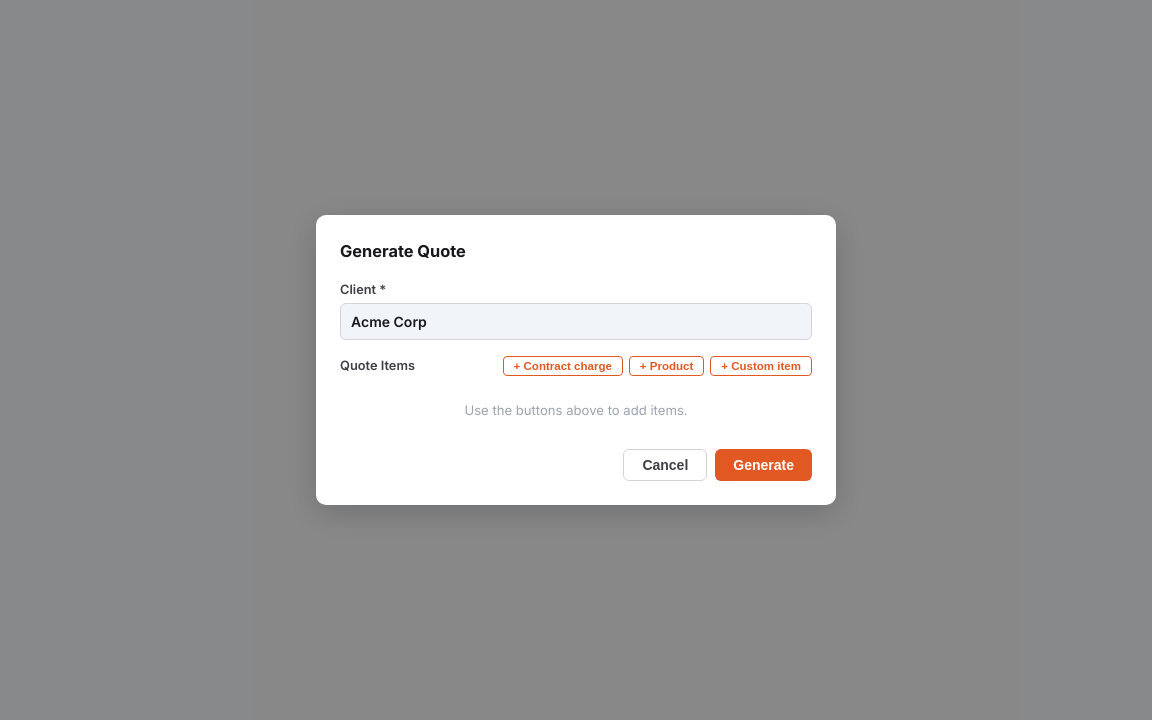
Test: GenerateQuoteModal › auto-fills the unit price when a catalog product is chosen
Click the button titled "Add Product": coordinates (667, 366) [629, 356, 704, 376]
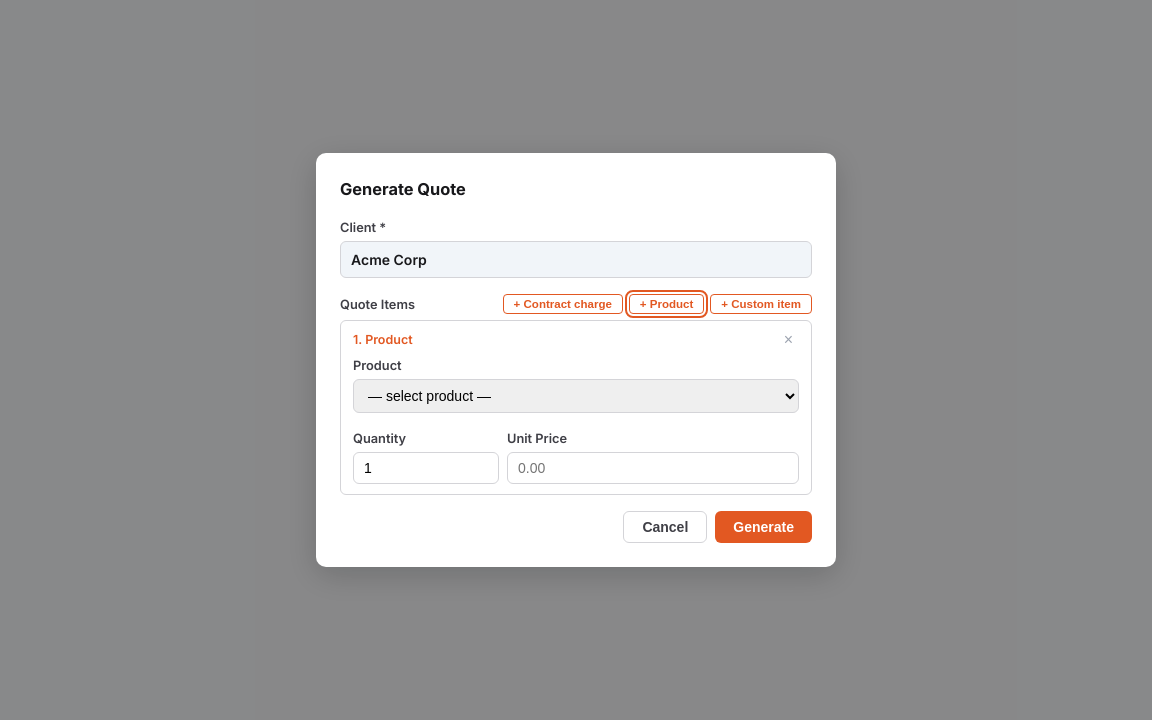
Select "Static IP (50.00)" in the dropdown named "Static IP (50.00)": coordinates (576, 396) [353, 379, 799, 413]
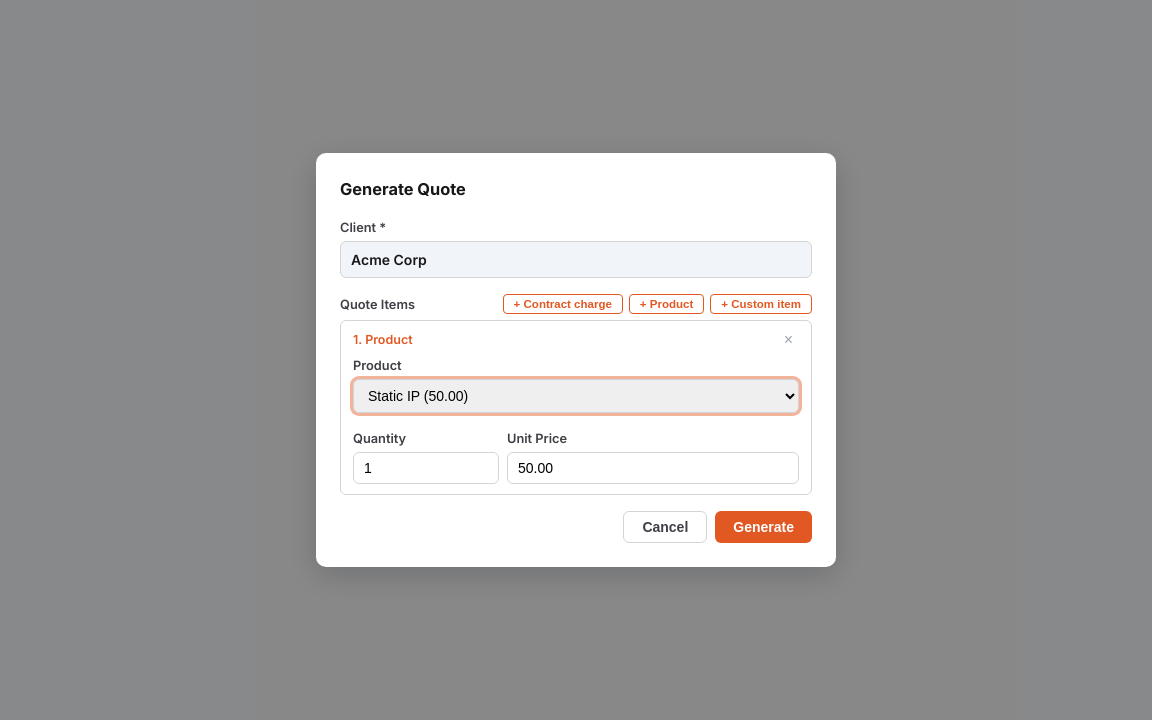
Check: the number field showing "50.00" below "Unit Price" is shown, box [507, 452, 799, 484]
